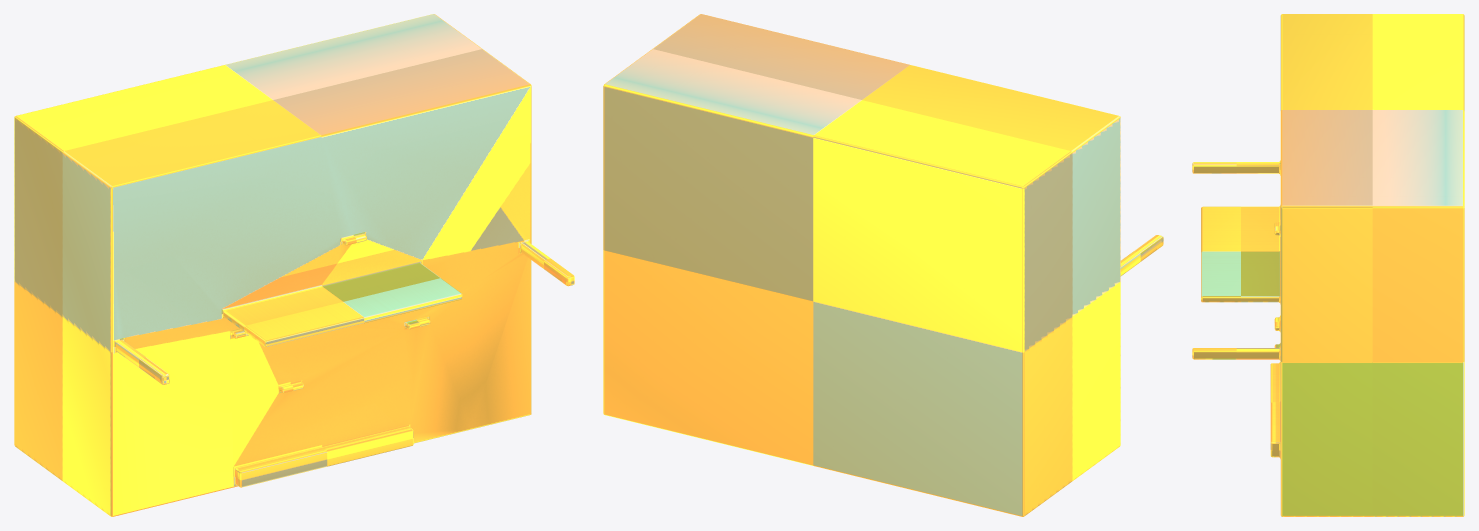
File: garage-whiteboard-1995.glb
The picture shows the model from 3 angles, left to right: view 1: azimuth 30°, elevation 25°; view 2: azimuth 150°, elevation 25°; view 3: azimuth 270°, elevation 25°; orthographic projection. The views are drawn at different scales.
Visible parts, largest first — view 1: garage-whiteboard-1995_export; view 2: garage-whiteboard-1995_export; view 3: garage-whiteboard-1995_export.
Boxes of the visible parts, box(x1,y1,x2,y2) form: garage-whiteboard-1995_export: box(14, 14, 574, 516); garage-whiteboard-1995_export: box(603, 14, 1163, 516); garage-whiteboard-1995_export: box(1192, 14, 1464, 516).
Size of the model in its own units: 1.33 by 0.9996 by 0.7928.
1 material, 1 textured.
